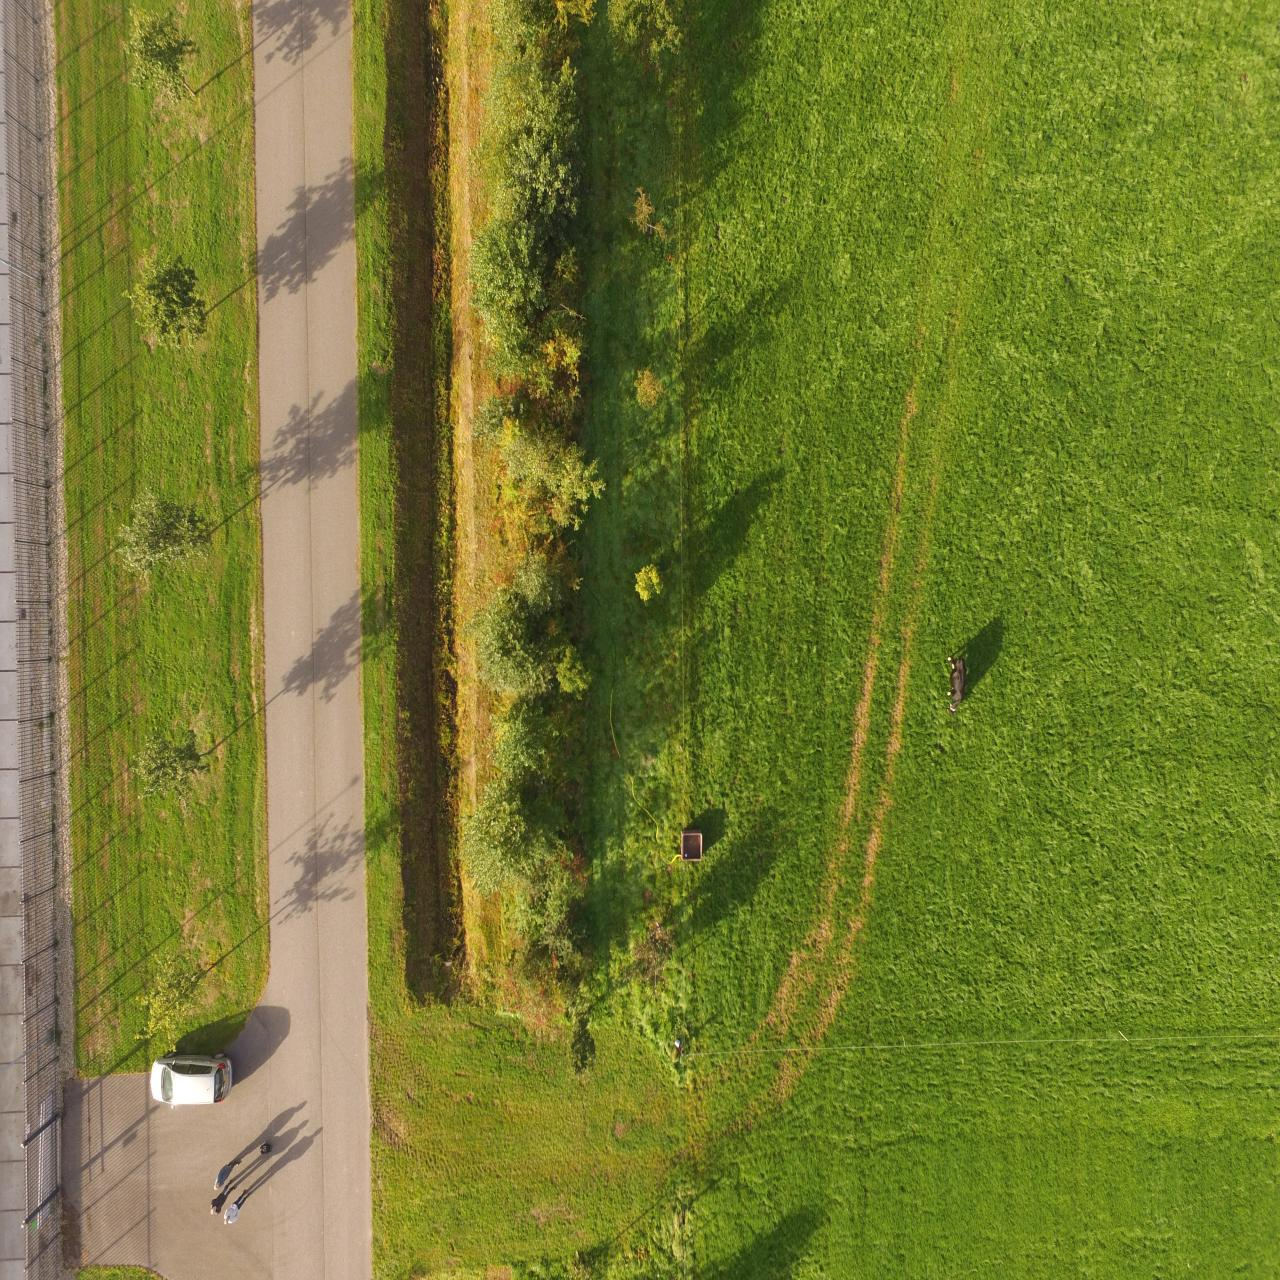cow: (945, 653, 969, 716)
